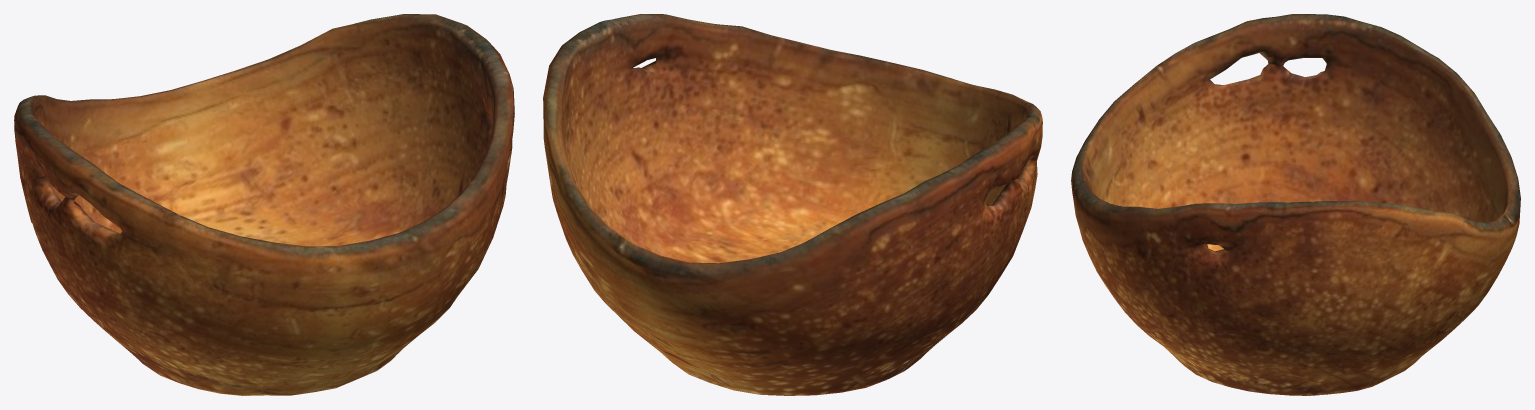
Rendered from wooden_bowl_02.glb.
The picture shows the model from 3 angles, left to right: view 1: azimuth 30°, elevation 25°; view 2: azimuth 150°, elevation 25°; view 3: azimuth 270°, elevation 25°; orthographic projection. The views are drawn at different scales.
Size of the model in its own units: 0.1307 by 0.0731 by 0.1245.
1 material, 1 textured.
